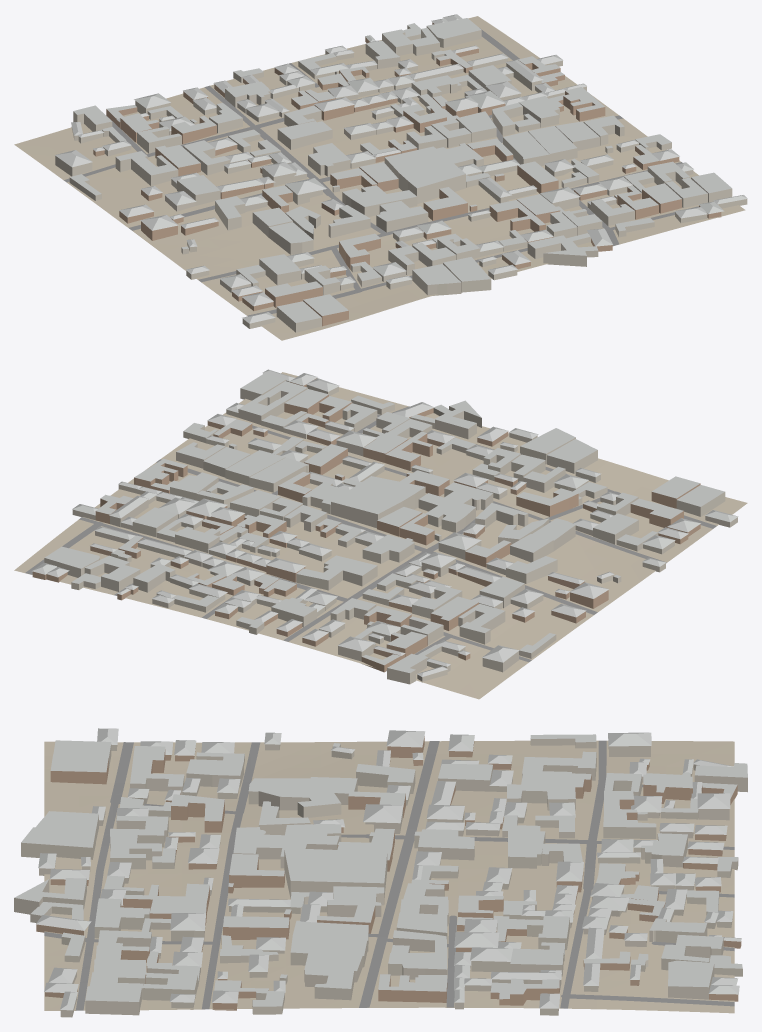
The model's file is bolak_-15_3.glb.
3 views of the same model, one above another, from view 1: azimuth 30°, elevation 25°; view 2: azimuth 150°, elevation 25°; view 3: azimuth 270°, elevation 25° (orthographic). The views are drawn at different scales.
Parts seen in each view (by area): view 1: Tom_Shifer, Yer_Tuproq-col, Devor_Suvoq-col, Devor_Gisht-col, Yol_Mahalla-col; view 2: Tom_Shifer, Yer_Tuproq-col, Devor_Suvoq-col, Devor_Gisht-col, Yol_Mahalla-col; view 3: Tom_Shifer, Yer_Tuproq-col, Devor_Suvoq-col, Devor_Gisht-col, Yol_Mahalla-col.
Part boxes in pixels (<box>): Tom_Shifer: <box>55,14,747,323</box>; Yer_Tuproq-col: <box>14,16,745,340</box>; Devor_Suvoq-col: <box>55,25,747,332</box>; Devor_Gisht-col: <box>93,22,721,326</box>; Yol_Mahalla-col: <box>64,28,698,316</box>; Tom_Shifer: <box>32,369,738,676</box>; Yer_Tuproq-col: <box>14,372,747,699</box>; Devor_Suvoq-col: <box>44,373,737,684</box>; Devor_Gisht-col: <box>32,378,700,672</box>; Yol_Mahalla-col: <box>25,406,716,671</box>; Tom_Shifer: <box>14,728,747,1010</box>; Yer_Tuproq-col: <box>44,740,734,1013</box>; Devor_Suvoq-col: <box>14,738,747,1017</box>; Devor_Gisht-col: <box>36,736,741,1010</box>; Yol_Mahalla-col: <box>44,740,734,1010</box>.
Size of what is drawn, in the model's own units: 419 by 27.89 by 425.
